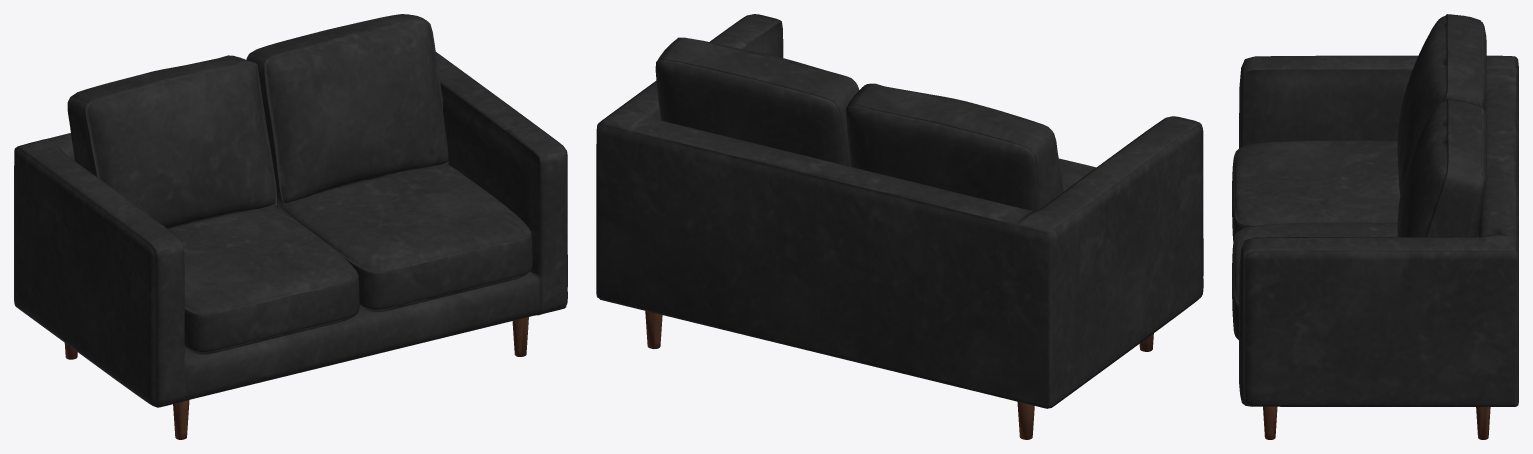
The picture shows the model from 3 angles, left to right: view 1: azimuth 30°, elevation 25°; view 2: azimuth 150°, elevation 25°; view 3: azimuth 270°, elevation 25°; orthographic projection. The views are drawn at different scales.
Visible parts, largest first — view 1: RootNode; view 2: RootNode; view 3: RootNode.
Boxes of the visible parts, x1,y1,x2,y2 form: RootNode: (14,14,567,439); RootNode: (596,14,1203,439); RootNode: (1232,14,1518,439).
Size of the model in its own units: 1.43 by 0.899 by 0.8787.
Materials: 1 (1 with a texture image).
